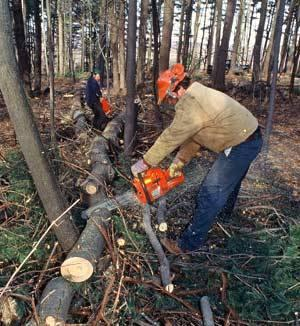person: (131, 63, 264, 254)
